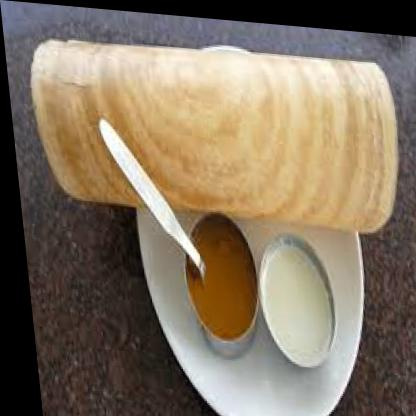dosa: (25, 31, 403, 230)
